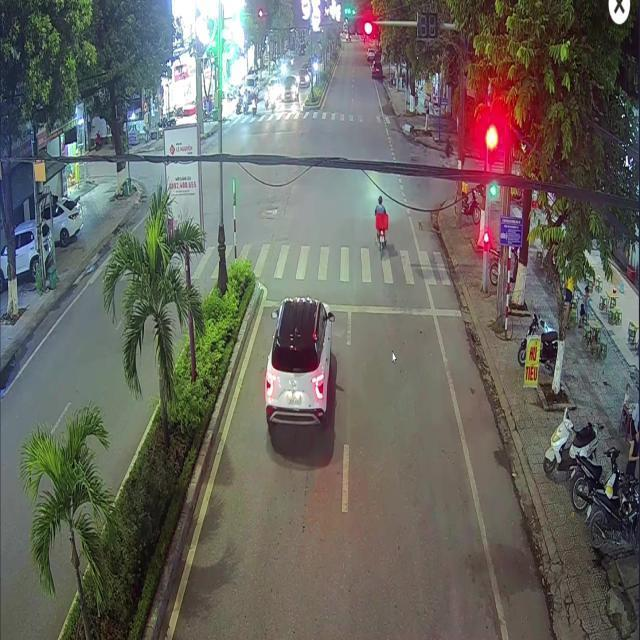car: (264, 296, 333, 424), (371, 61, 382, 77)
motobike: (375, 213, 388, 250)
red_light: (347, 19, 372, 34), (487, 130, 493, 164), (483, 231, 487, 250)
stop_line: (263, 300, 461, 315)
